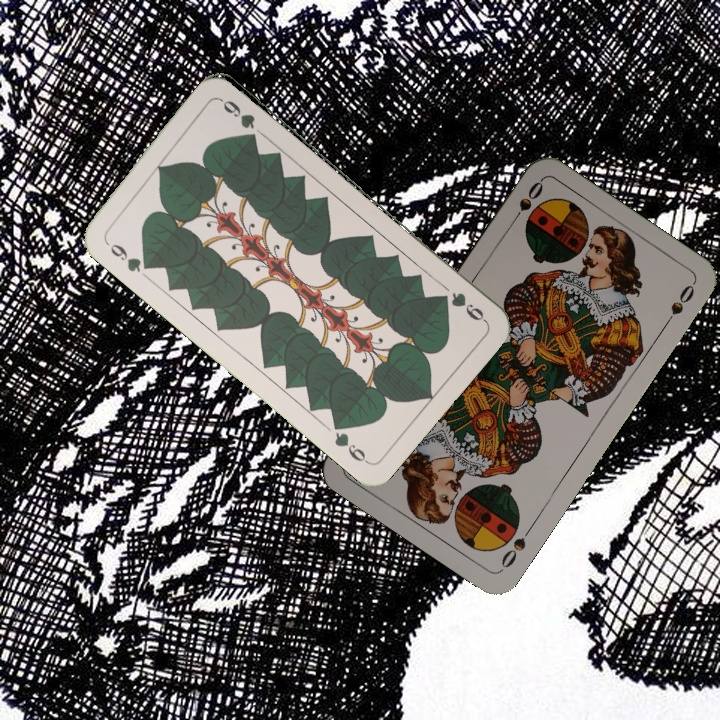G9: (100, 234, 154, 276), (446, 288, 489, 325)
SO: (505, 177, 546, 229), (496, 521, 536, 573)
